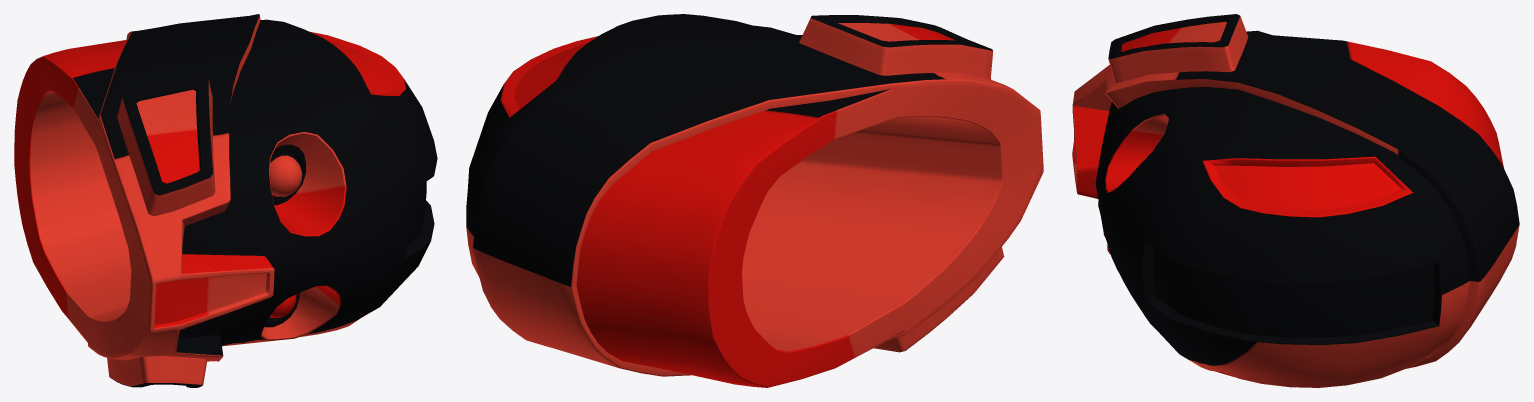
File: ScifiHelmet01.fbx
The picture shows the model from 3 angles, left to right: view 1: azimuth 30°, elevation 25°; view 2: azimuth 150°, elevation 25°; view 3: azimuth 270°, elevation 25°; orthographic projection. The views are drawn at different scales.
Visible parts, largest first — view 1: Helmet; view 2: Helmet; view 3: Helmet.
Part boxes in pixels (x1=…): Helmet: x1=14, y1=14, x2=437, y2=387; Helmet: x1=466, y1=14, x2=1043, y2=387; Helmet: x1=1072, y1=14, x2=1519, y2=387.
Bounding box in the file's own units: 0.1935 × 0.1431 × 0.2053.
